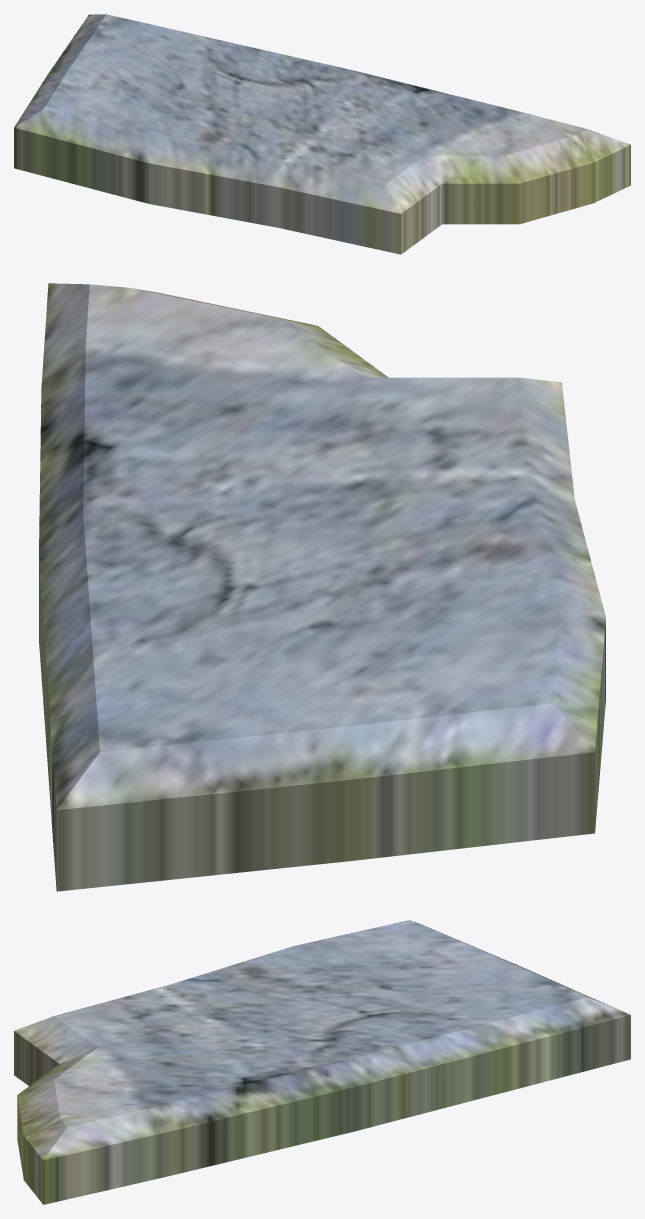
File: stone.09.fbx
3 renders of one model, top to bottom at view 1: azimuth 30°, elevation 25°; view 2: azimuth 150°, elevation 25°; view 3: azimuth 270°, elevation 25°, orthographic. The views are drawn at different scales.
Parts seen in each view (by area): view 1: stone.09; view 2: stone.09; view 3: stone.09.
Part boxes in pixels (x1,y1,x2,y2): stone.09: (14,14,630,254); stone.09: (39,283,605,891); stone.09: (14,920,630,1204).
Bounding box in the file's own units: 81.21 × 9.74 × 89.24.
Materials: 1 (1 with a texture image).
